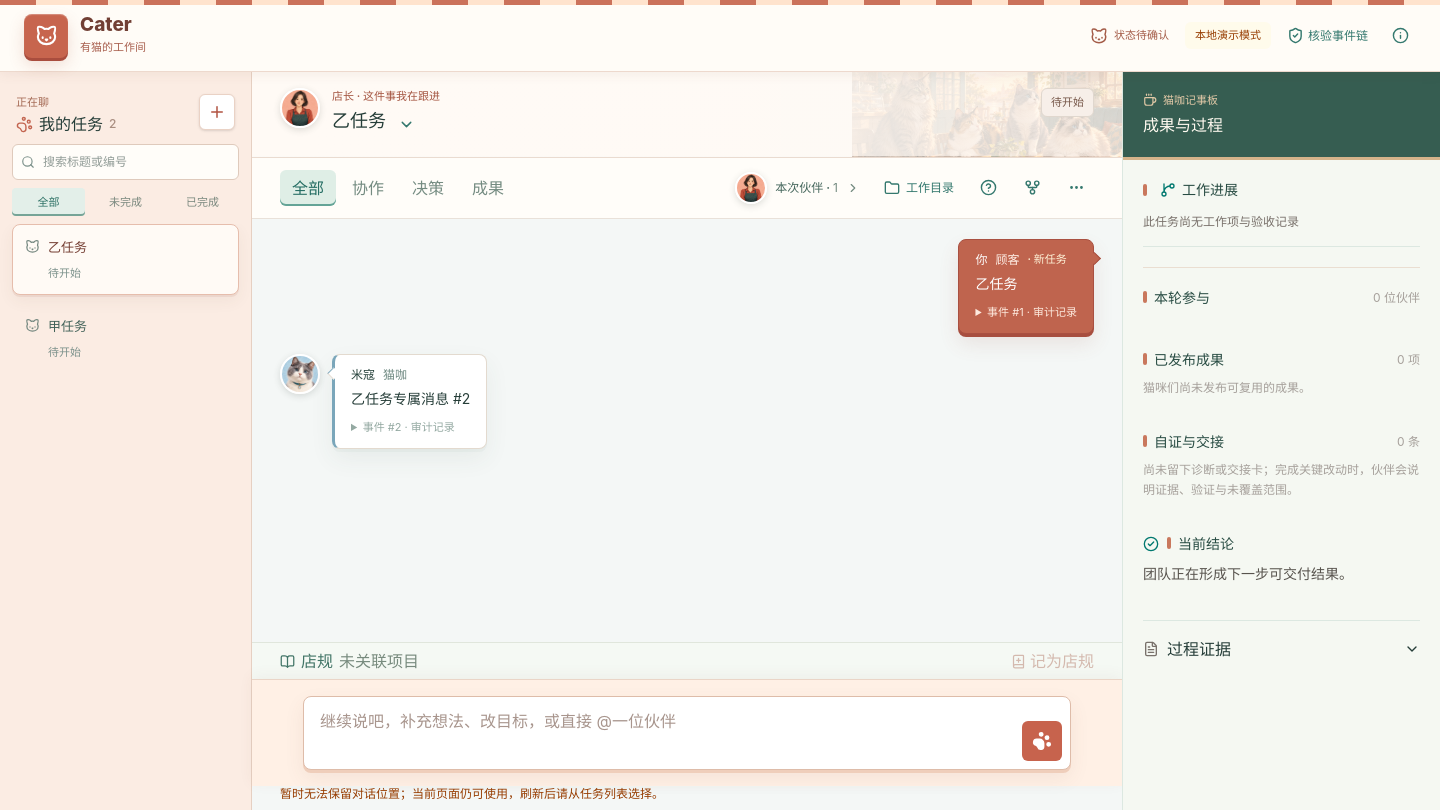
聊天内点名保留草稿并聚焦，既不发送也不污染其他任务
Type "补充一下" into the text box named "向团队发送消息".
click(663, 733); type("补充一下")  # box [312,705,1014,761]
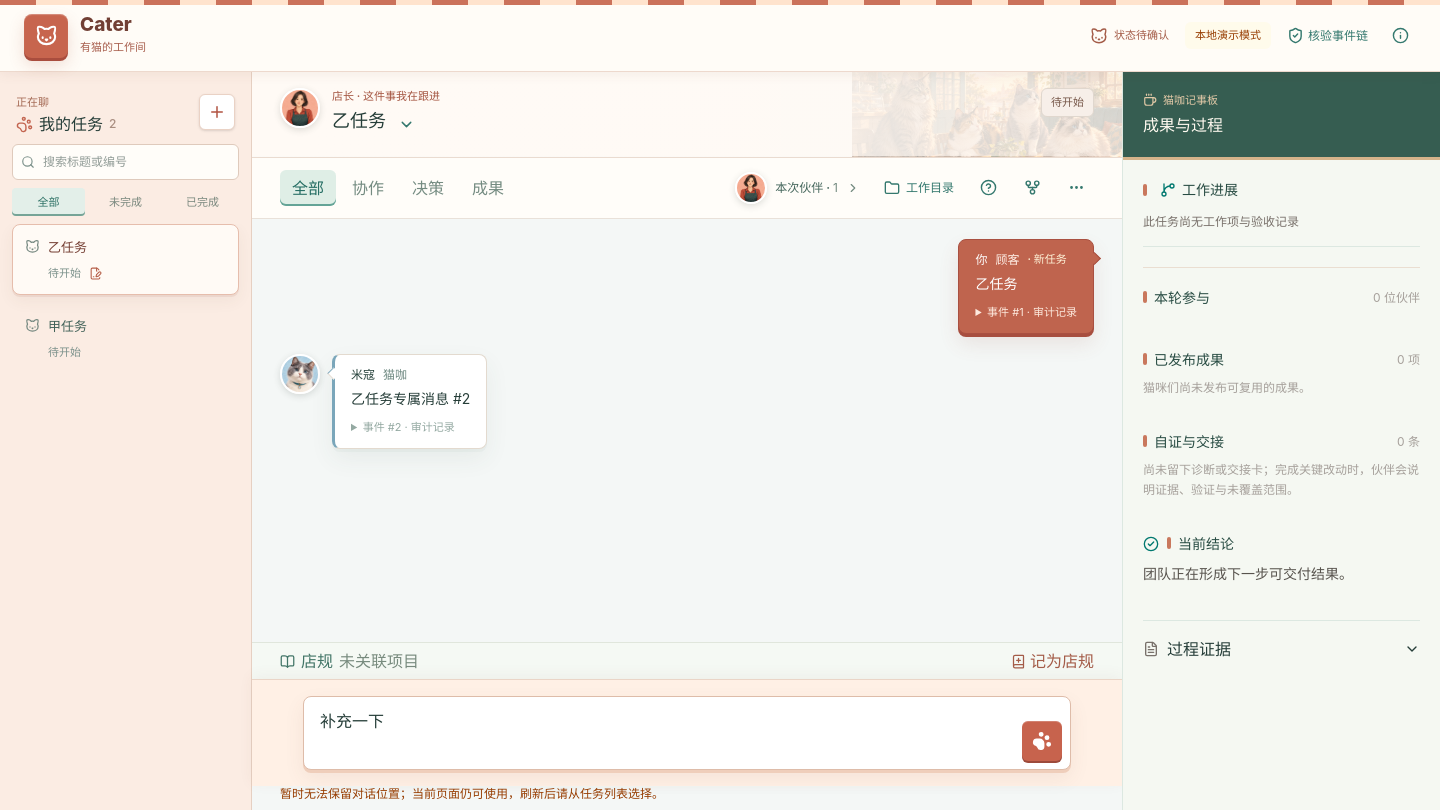
Click the button "本次伙伴 · 1".
click(798, 188)  # box [727,166,868,210]
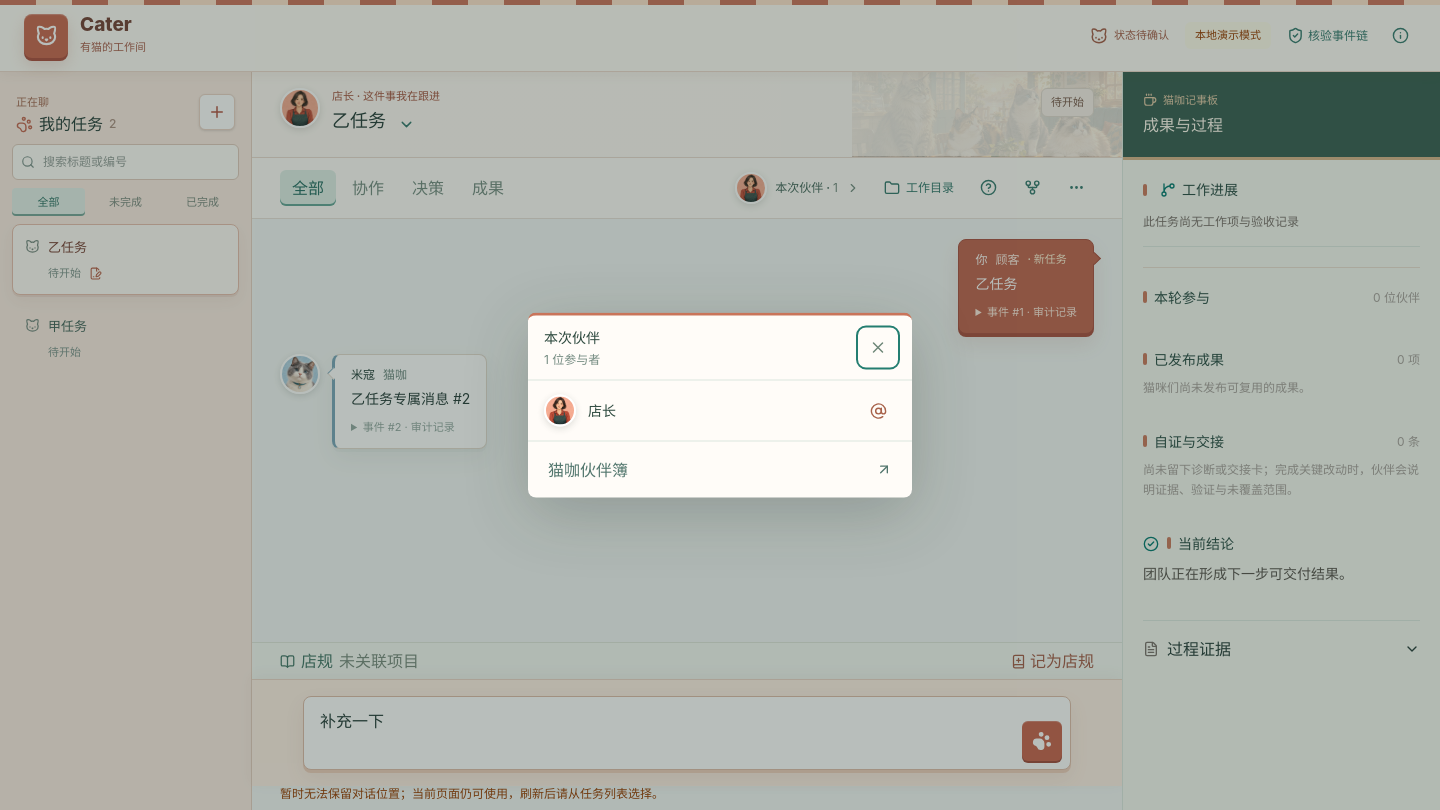
Click the button named "点名 店长".
click(878, 410)  # box [860,392,896,428]
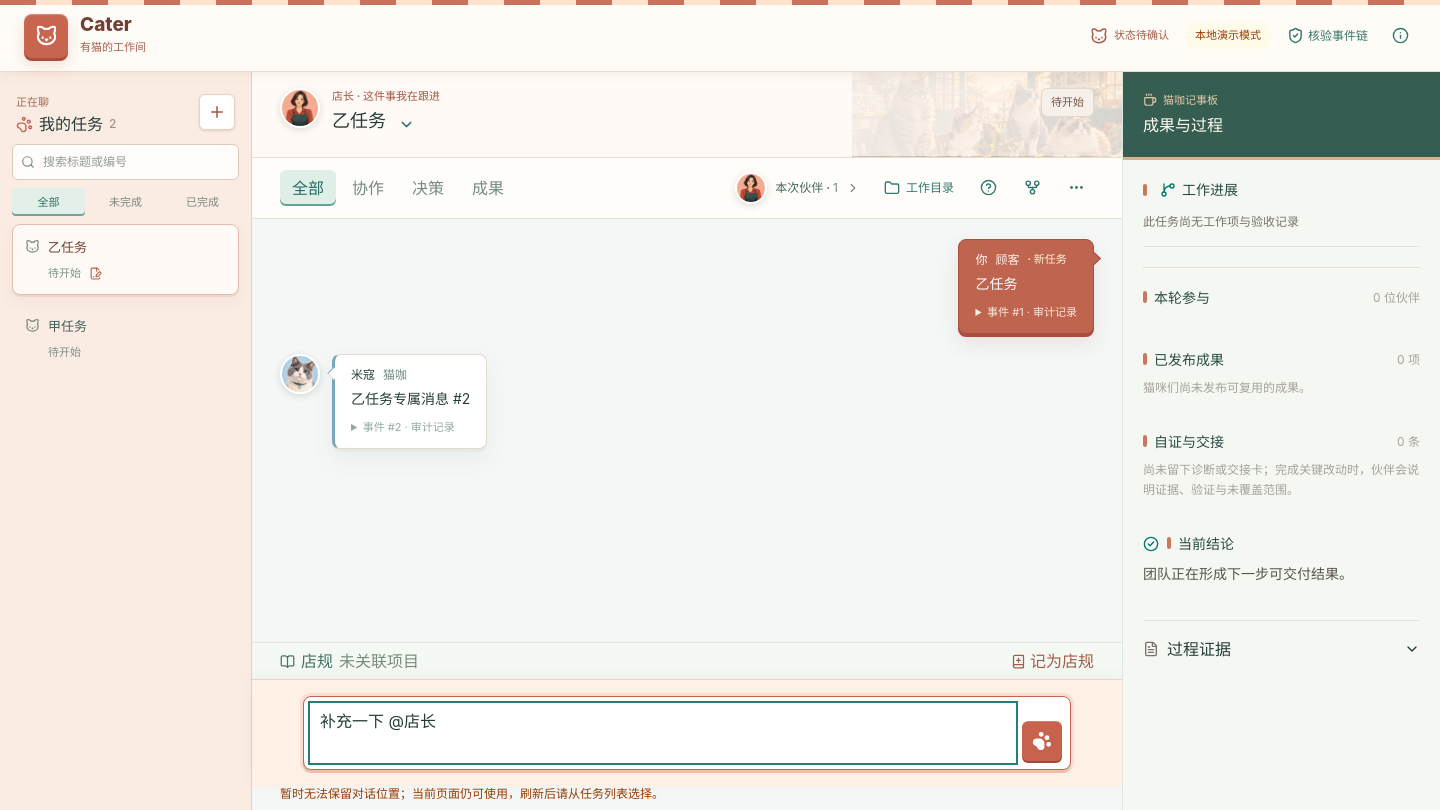
Now the text box named "向团队发送消息" holds "补充一下 @店长 ", box [312,705,1014,761]
Click the button "甲任务 待开始".
click(126, 338)  # box [12,302,239,373]
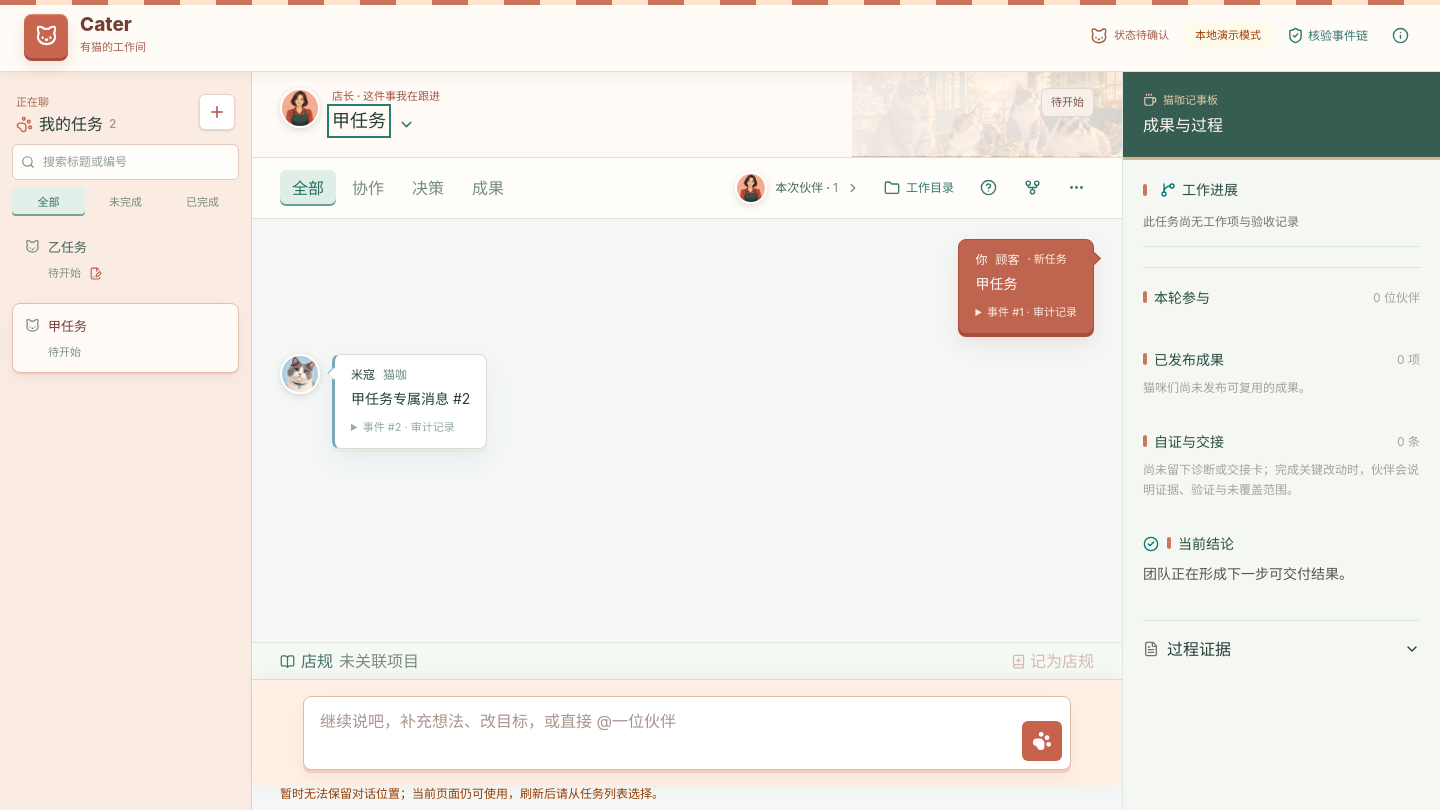
Now the text box named "向团队发送消息" is empty, box [312,705,1014,761]
Click the button "乙任务 待开始".
click(126, 259)  # box [12,224,239,294]
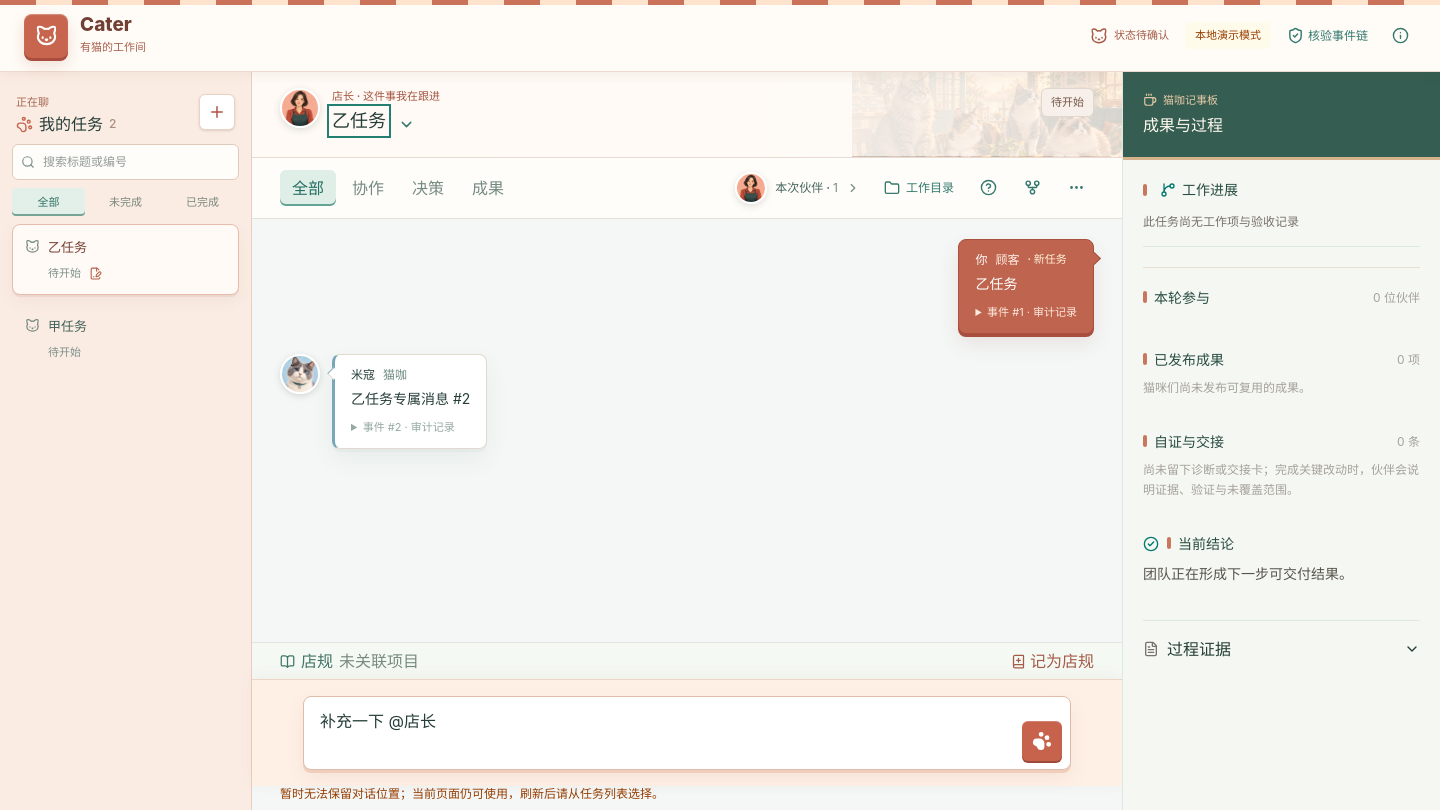
Now the text box named "向团队发送消息" holds "补充一下 @店长 ", box [312,705,1014,761]
